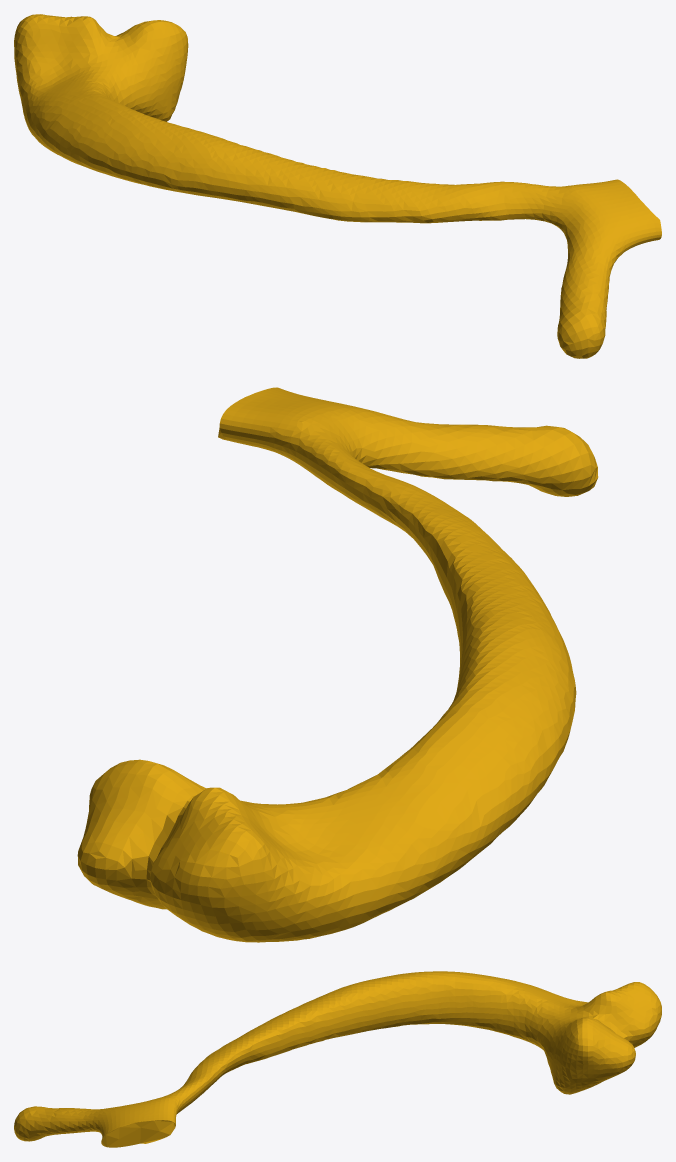
The model's file is Optic_chiasm.obj.
3 views of the same model, one above another, from view 1: azimuth 30°, elevation 25°; view 2: azimuth 150°, elevation 25°; view 3: azimuth 270°, elevation 25° (orthographic). The views are drawn at different scales.
Parts seen in each view (by area): view 1: obj0; view 2: obj0; view 3: obj0.
Part boxes in pixels (x1,y1,x2,y2): obj0: (14, 14, 661, 358); obj0: (77, 387, 598, 942); obj0: (14, 971, 661, 1147).
Size of the model in its own units: 17.7 by 5.12 by 32.78.
1 material, 1 textured.
